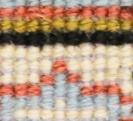Knot: (17, 6, 23, 15)
